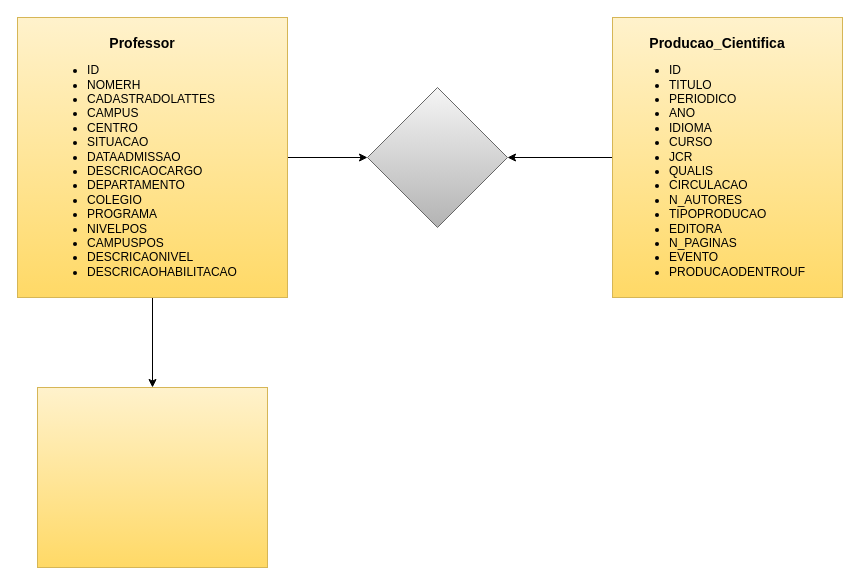
The diagram is 860 pixels wide and 585 high, and some of its shapes have lost their labels. The shapes that lost their labels are listed below. From the top down, each one's centre as x and y in pixels, then its label:
the point at 437,157: Prof_producao
the point at 152,477: Projeto ID ORIENTACAO SITUACAO NATUREZA NATUREZAFINANCIADORA
